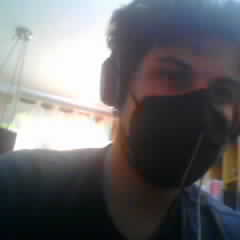without_mask: (125, 34, 239, 191)
